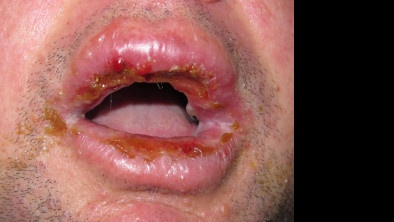SJS-TEN: (0, 3, 292, 222)
